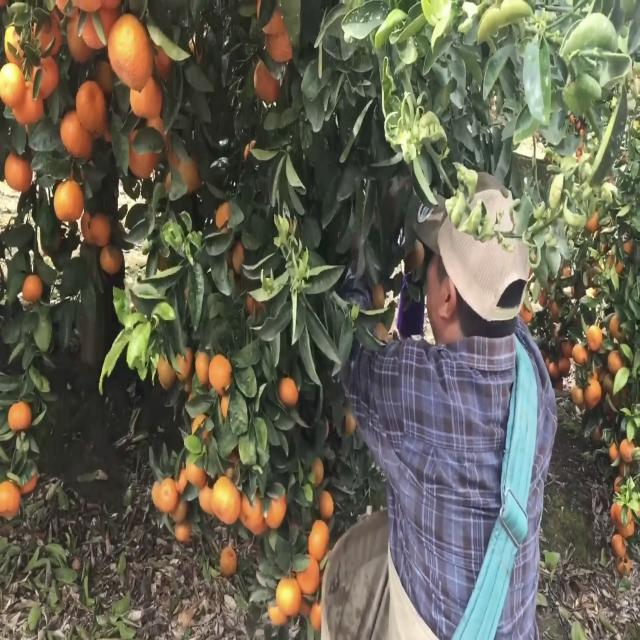Jeruk Sudah Matang: (107, 13, 155, 95), (56, 104, 96, 165), (74, 80, 110, 132), (211, 470, 242, 530), (130, 68, 162, 122), (252, 56, 284, 107), (53, 174, 85, 224), (2, 146, 34, 194), (274, 572, 304, 618), (260, 482, 290, 528), (306, 516, 330, 564), (0, 61, 23, 107), (209, 352, 234, 394), (0, 474, 22, 520), (274, 376, 302, 412), (8, 398, 33, 435), (158, 474, 178, 514), (91, 212, 112, 249), (22, 272, 44, 306), (316, 483, 334, 518), (214, 200, 234, 228), (585, 378, 602, 409), (588, 324, 602, 354), (573, 340, 587, 363)
